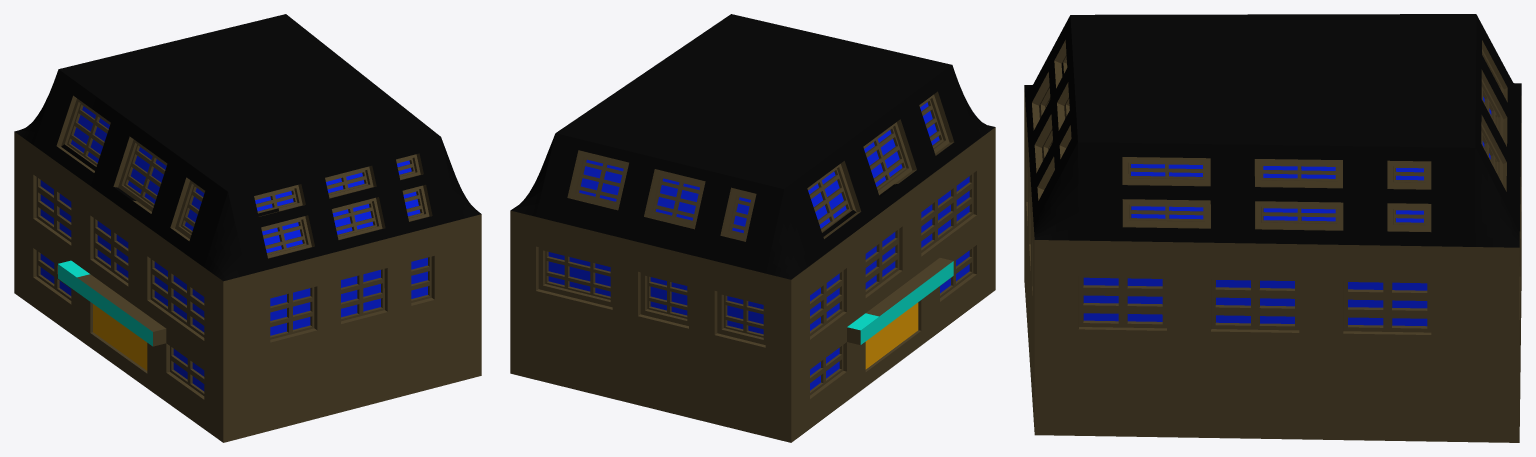
File: MorrowfieldFoodGovernmentRoad.fbx
3 renders of one model, left to right at view 1: azimuth 30°, elevation 25°; view 2: azimuth 150°, elevation 25°; view 3: azimuth 270°, elevation 25°, orthographic. The views are drawn at different scales.
Visible parts, largest first — view 1: MorrowfieldFood; view 2: MorrowfieldFood; view 3: MorrowfieldFood.
Part boxes in pixels (x1,y1,x2,y2): MorrowfieldFood: (14, 14, 481, 442); MorrowfieldFood: (510, 14, 995, 442); MorrowfieldFood: (1024, 14, 1521, 442).
Size of the model in its own units: 3232 by 2450 by 3950.
